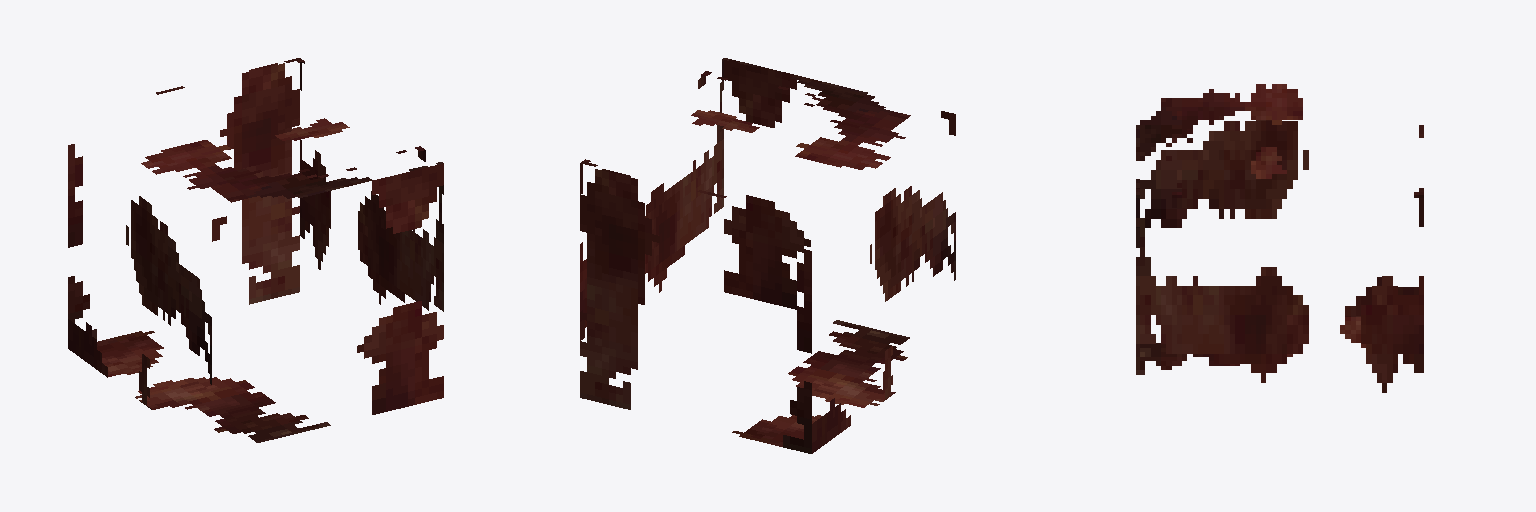
3 views of the same model, side by side, from view 1: azimuth 30°, elevation 25°; view 2: azimuth 150°, elevation 25°; view 3: azimuth 270°, elevation 25° (orthographic).
Visible parts, largest first — view 1: mtl_p_jun_fruit_apple; view 2: mtl_p_jun_fruit_apple; view 3: mtl_p_jun_fruit_apple.
Part boxes in pixels (x1,y1,x2,y2): mtl_p_jun_fruit_apple: (68, 58, 443, 442); mtl_p_jun_fruit_apple: (580, 58, 955, 453); mtl_p_jun_fruit_apple: (1136, 84, 1423, 392).
Bounding box in the file's own units: 8.93 × 8.65 × 9.64.
Materials: 1 (1 with a texture image).